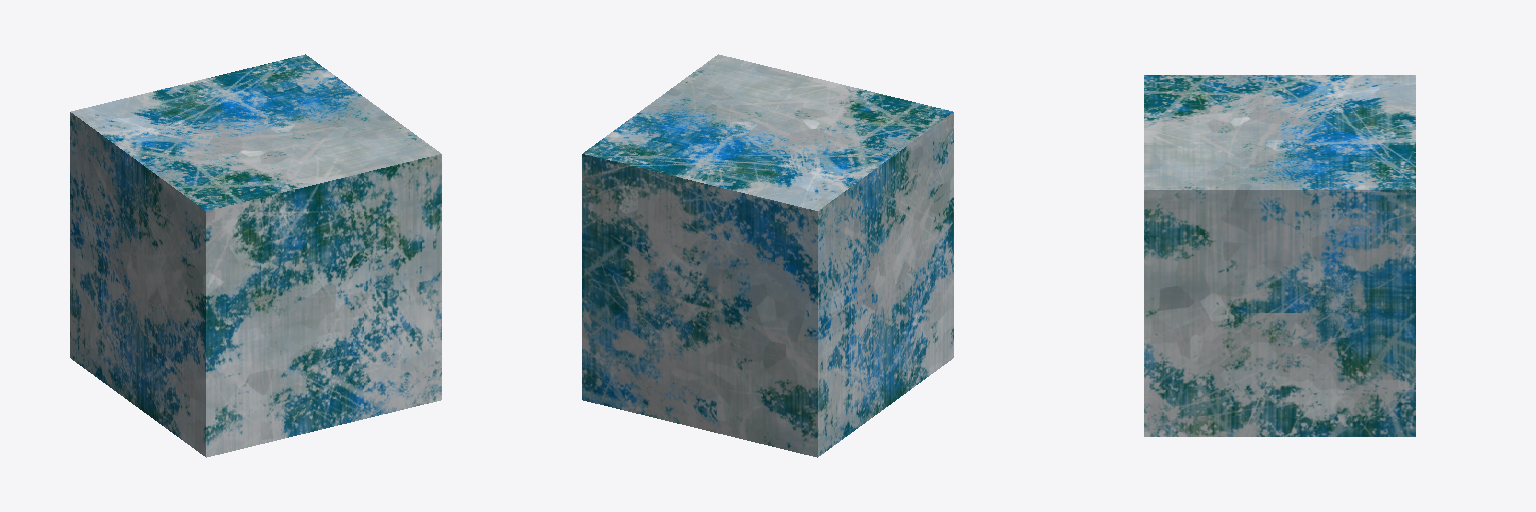
3 views of the same model, side by side, from view 1: azimuth 30°, elevation 25°; view 2: azimuth 150°, elevation 25°; view 3: azimuth 270°, elevation 25° (orthographic).
Parts seen in each view (by area): view 1: Cube; view 2: Cube; view 3: Cube.
Boxes of the visible parts, x1=… form: Cube: x1=70, y1=54, x2=441, y2=457; Cube: x1=582, y1=54, x2=953, y2=457; Cube: x1=1144, y1=75, x2=1415, y2=436.
Size of the model in its own units: 2 by 2 by 2.
1 materials, 1 textured.